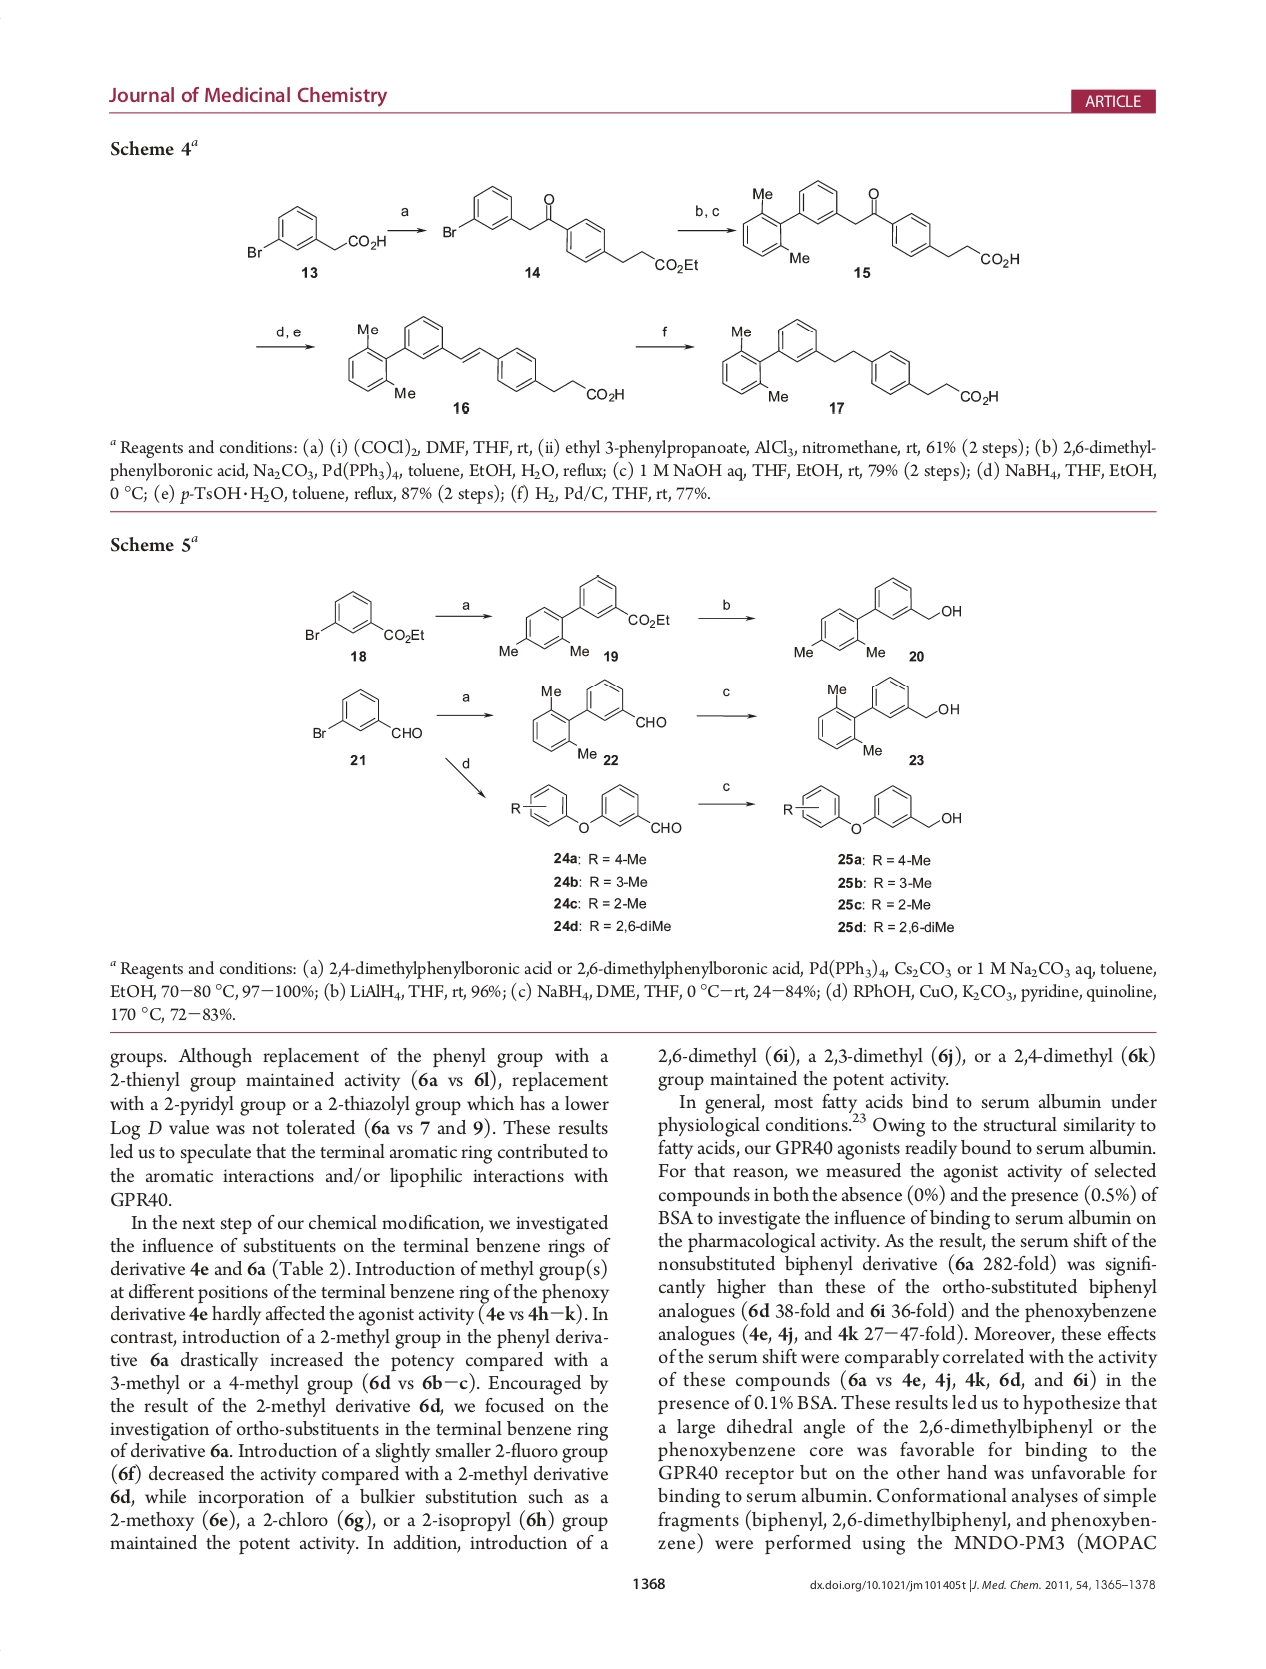exist_molecular: (343, 310, 630, 407), (737, 174, 1023, 271), (718, 313, 1001, 407), (440, 182, 699, 279), (497, 571, 673, 661), (789, 575, 963, 660), (813, 673, 963, 757), (529, 676, 670, 761), (777, 778, 968, 838), (507, 781, 688, 842), (245, 202, 390, 261), (302, 588, 430, 648), (310, 684, 424, 746)
